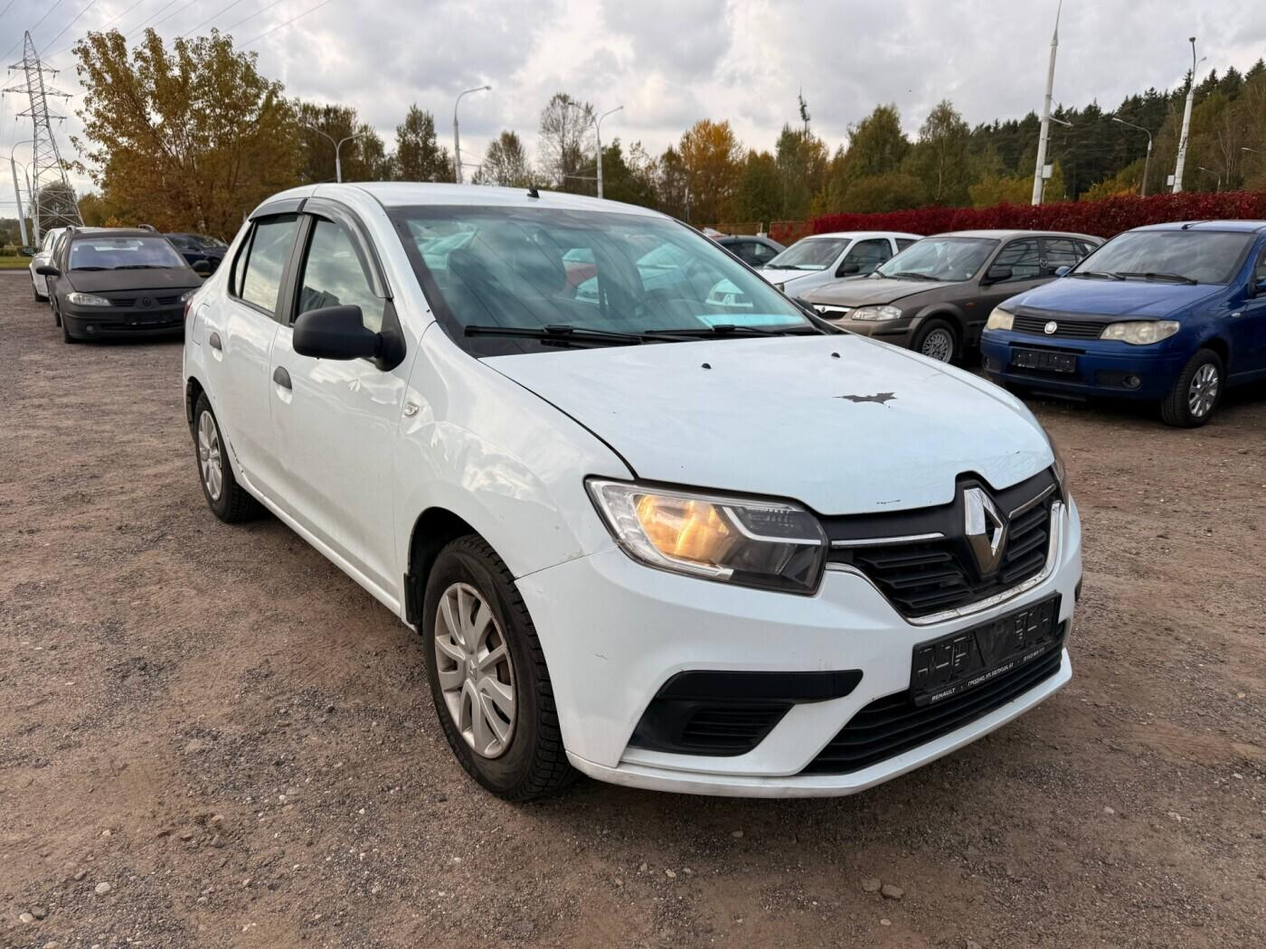Logan_2018: (178, 174, 1106, 811)
